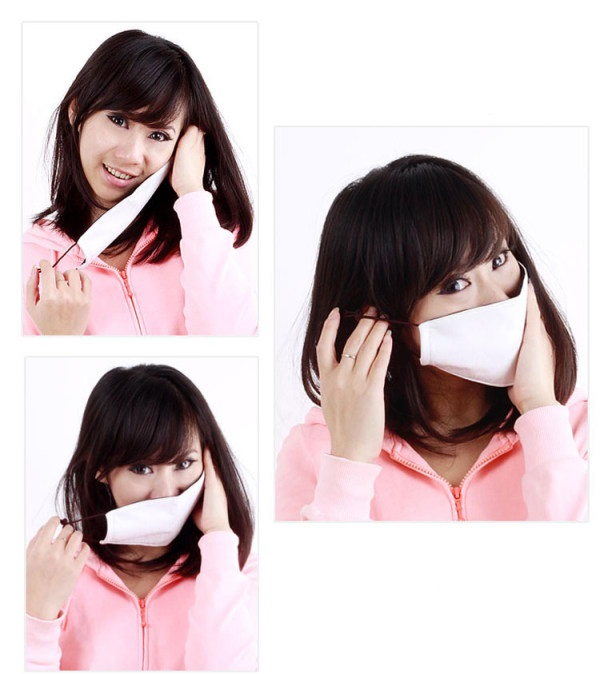face_mask: (403, 207, 524, 383), (77, 67, 183, 206), (106, 407, 207, 549)
